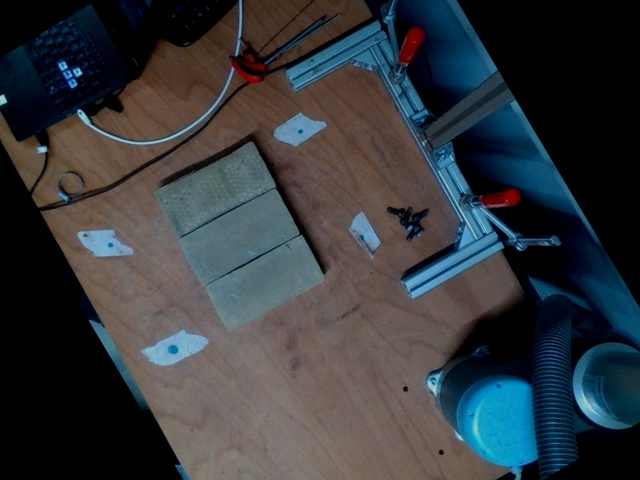brick: (202, 236, 324, 331), (178, 188, 298, 283), (156, 144, 272, 235)
